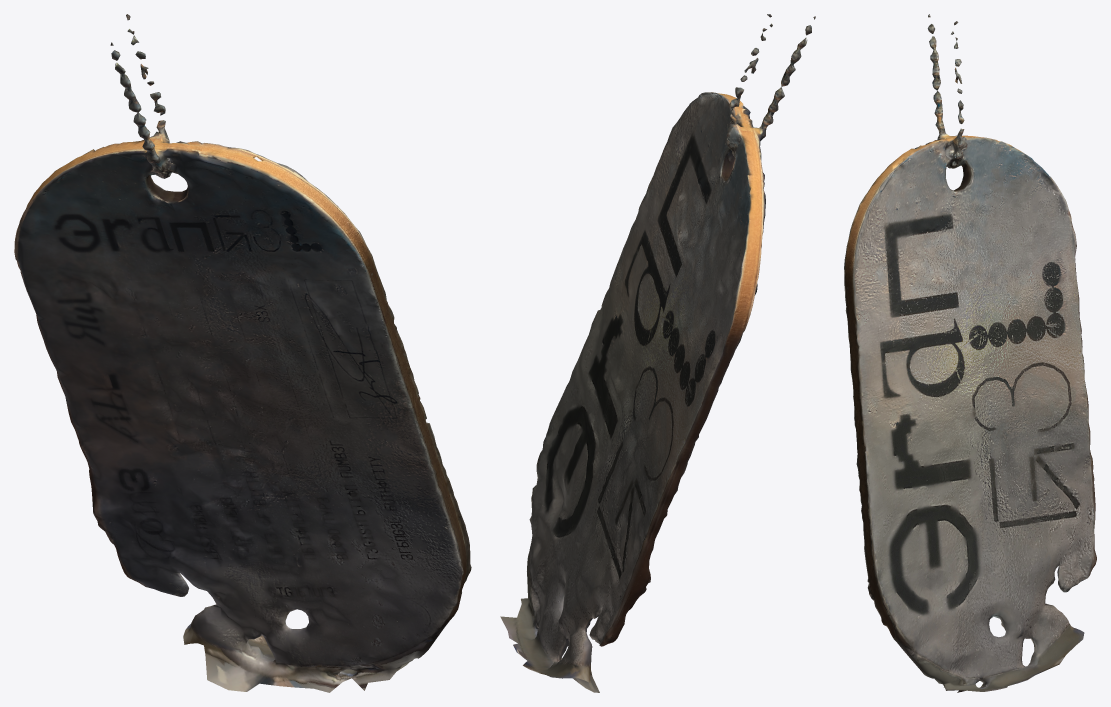
Rendered from Chain.glb.
3 views of the same model, side by side, from view 1: azimuth 30°, elevation 25°; view 2: azimuth 150°, elevation 25°; view 3: azimuth 270°, elevation 25° (orthographic). The views are drawn at different scales.
Parts seen in each view (by area): view 1: Chain; view 2: Chain; view 3: Chain.
Part boxes in pixels (x1=…): Chain: x1=14, y1=14, x2=471, y2=692; Chain: x1=500, y1=14, x2=815, y2=692; Chain: x1=844, y1=14, x2=1096, y2=692.
Size of the model in its own units: 0.6881 by 1.42 by 0.5526.
Materials: 1 (1 with a texture image).
